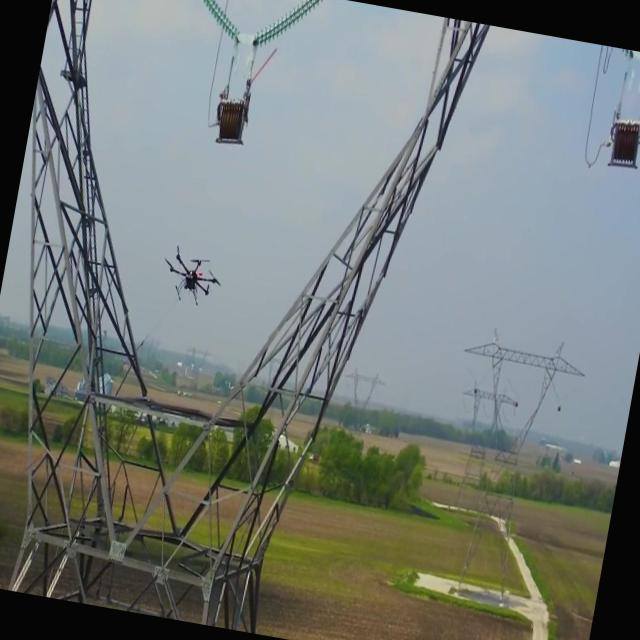drone: (156, 241, 226, 314)
